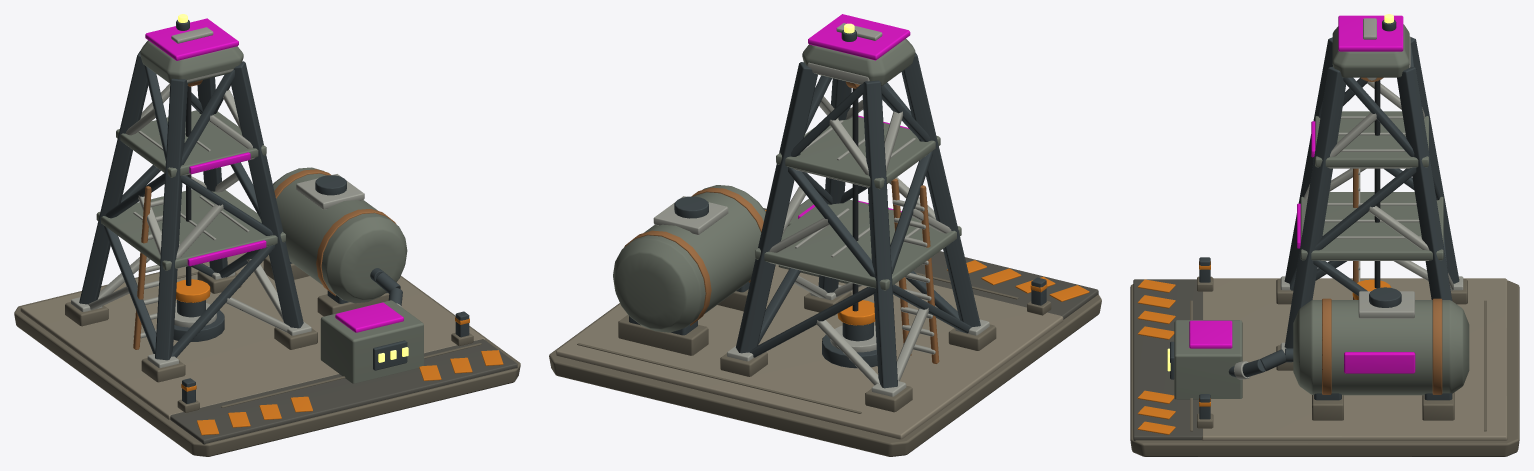
The model's file is oil-derrick.glb.
3 views of the same model, side by side, from view 1: azimuth 30°, elevation 25°; view 2: azimuth 150°, elevation 25°; view 3: azimuth 270°, elevation 25° (orthographic). The views are drawn at different scales.
Parts seen in each view (by area): view 1: OilDerrickShell; view 2: OilDerrickShell; view 3: OilDerrickShell.
Part boxes in pixels (x1,y1,x2,y2): OilDerrickShell: [14, 14, 520, 456]; OilDerrickShell: [549, 14, 1101, 456]; OilDerrickShell: [1130, 14, 1519, 456].
Bounding box in the file's own units: 2.98 × 2.82 × 2.98.
